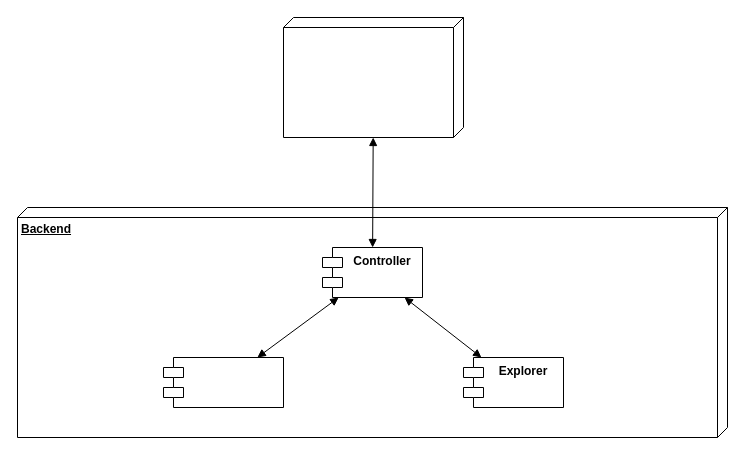
Some shapes in this 745 by 455 pixel diagram are drawn without their labels. The shapes that lost their labels are listed below. From the top down, each one's box as (x1, y1, x2, y2) in pixels, then its label:
(282, 16, 464, 138): UI
(162, 356, 284, 408): TasksManager
